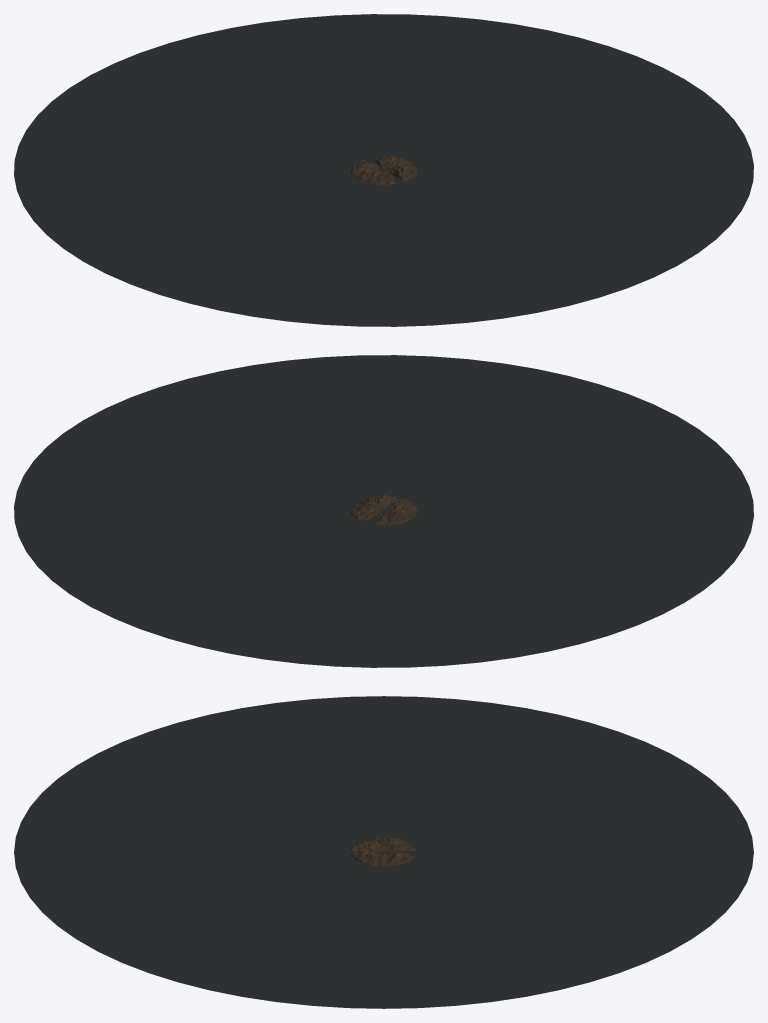
Rendered from backdrop_near_rect_coast_dead.glb.
3 views of the same model, one above another, from view 1: azimuth 30°, elevation 25°; view 2: azimuth 150°, elevation 25°; view 3: azimuth 270°, elevation 25° (orthographic).
Parts seen in each view (by area): view 1: water_N, water_S, water_W, water_E; view 2: water_N, water_S, water_W, water_E; view 3: water_E, water_N, water_W, water_S, near_land_E.
Boxes of the visible parts, x1,y1,x2,y2 form: water_N: (26, 14, 479, 170); water_S: (288, 170, 741, 326); water_W: (14, 130, 383, 321); water_E: (384, 19, 753, 210); water_N: (26, 511, 479, 667); water_S: (288, 355, 741, 511); water_W: (384, 471, 753, 662); water_E: (14, 360, 383, 551); water_E: (123, 852, 644, 1008); water_N: (384, 742, 753, 962); water_W: (123, 696, 644, 852); water_S: (14, 742, 383, 962); near_land_E: (360, 851, 407, 866).
Bounding box in the file's own units: 6000 × 167 × 6000.
4 materials, 3 textured.
